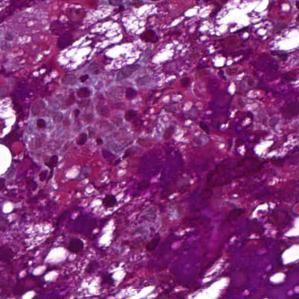ballooning: (56, 18, 128, 74), (214, 3, 270, 38)
